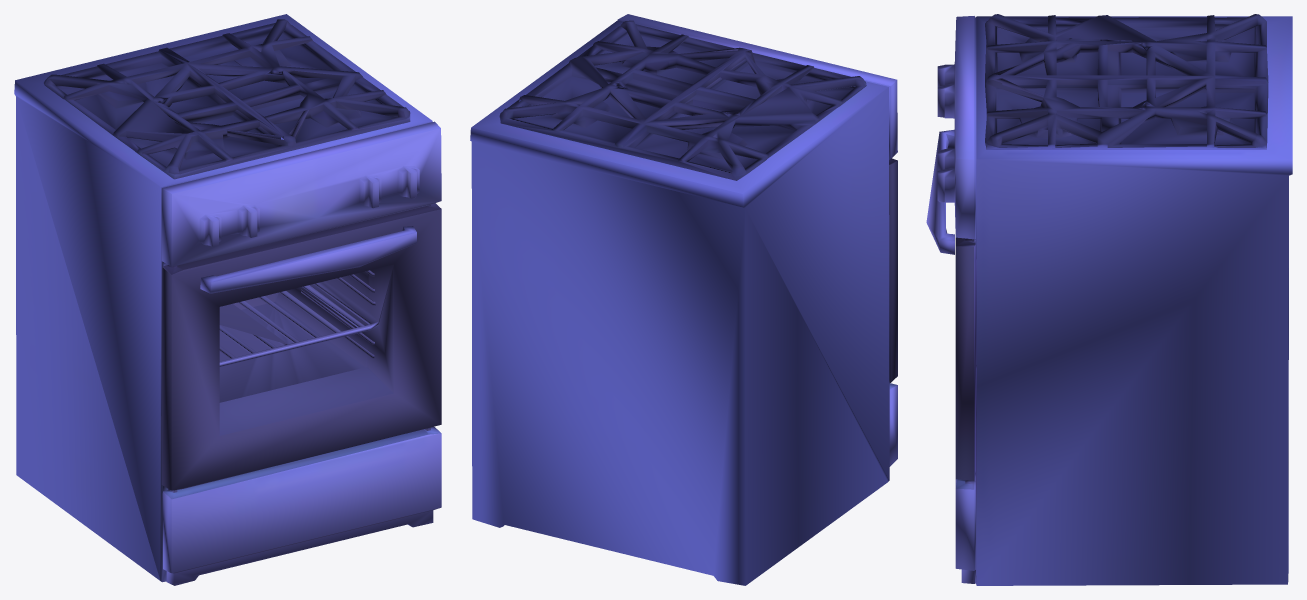
Rendered from model.progressive.glb.
The picture shows the model from 3 angles, left to right: view 1: azimuth 30°, elevation 25°; view 2: azimuth 150°, elevation 25°; view 3: azimuth 270°, elevation 25°; orthographic projection. The views are drawn at different scales.
Parts seen in each view (by area): view 1: mesh_input; view 2: mesh_input; view 3: mesh_input.
Boxes of the visible parts, bbox=[...] form: mesh_input: bbox=[14, 14, 441, 585]; mesh_input: bbox=[470, 14, 897, 585]; mesh_input: bbox=[926, 14, 1292, 585].
Bounding box in the file's own units: 1.33 × 1.89 × 1.43.
Materials: 1 (1 with a texture image).
